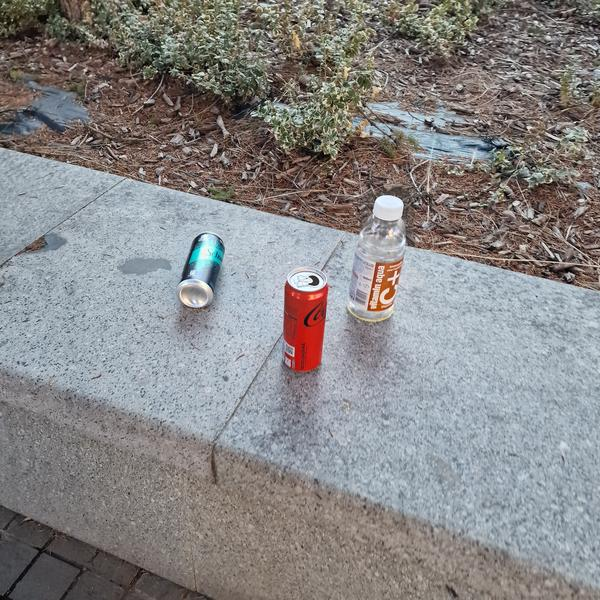can: (278, 266, 329, 373), (173, 227, 230, 316)
plastic_bottle: (342, 190, 415, 326)
